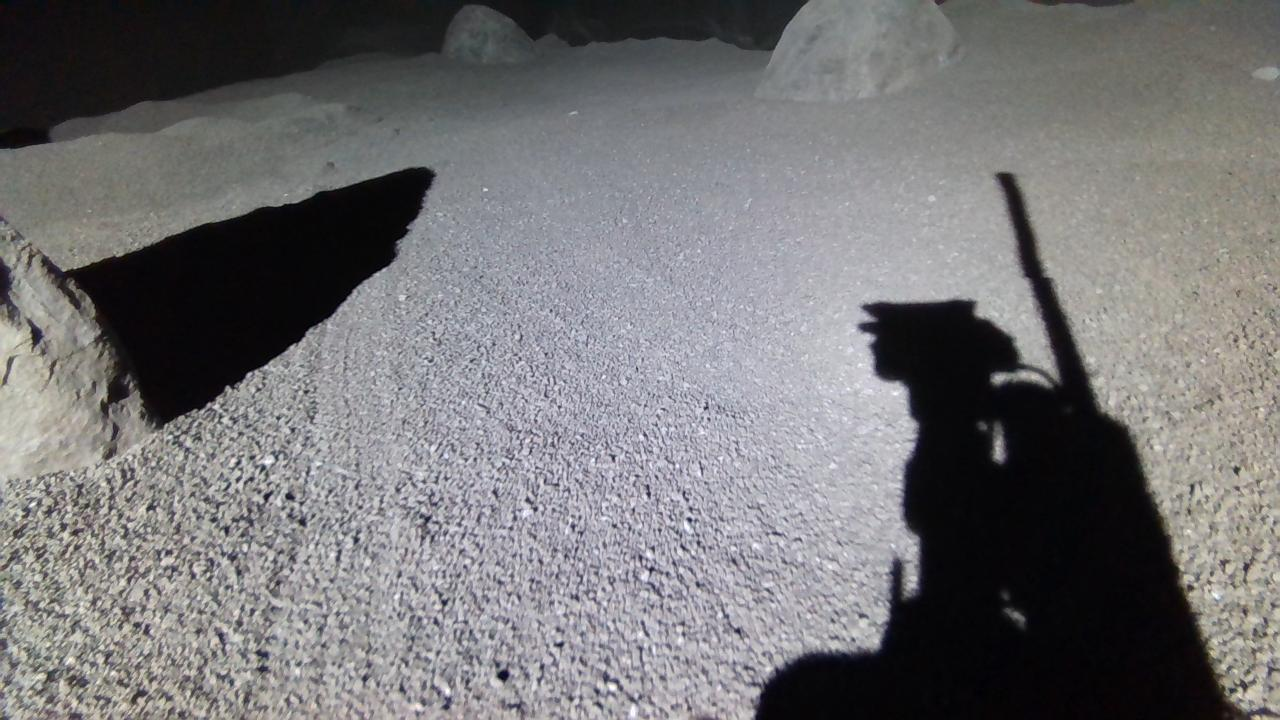rock: (756, 0, 965, 100), (441, 3, 534, 62)
